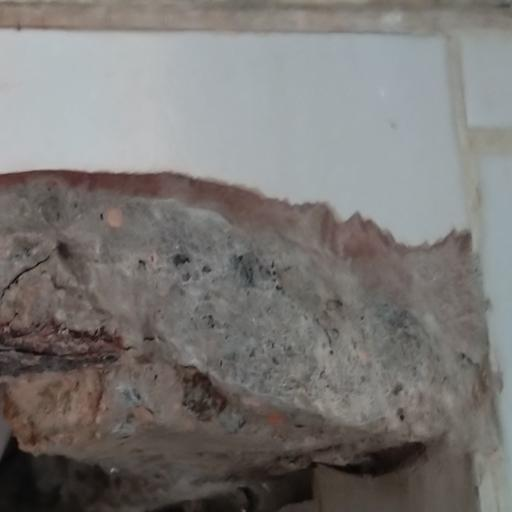spalling: (0, 156, 501, 512)
